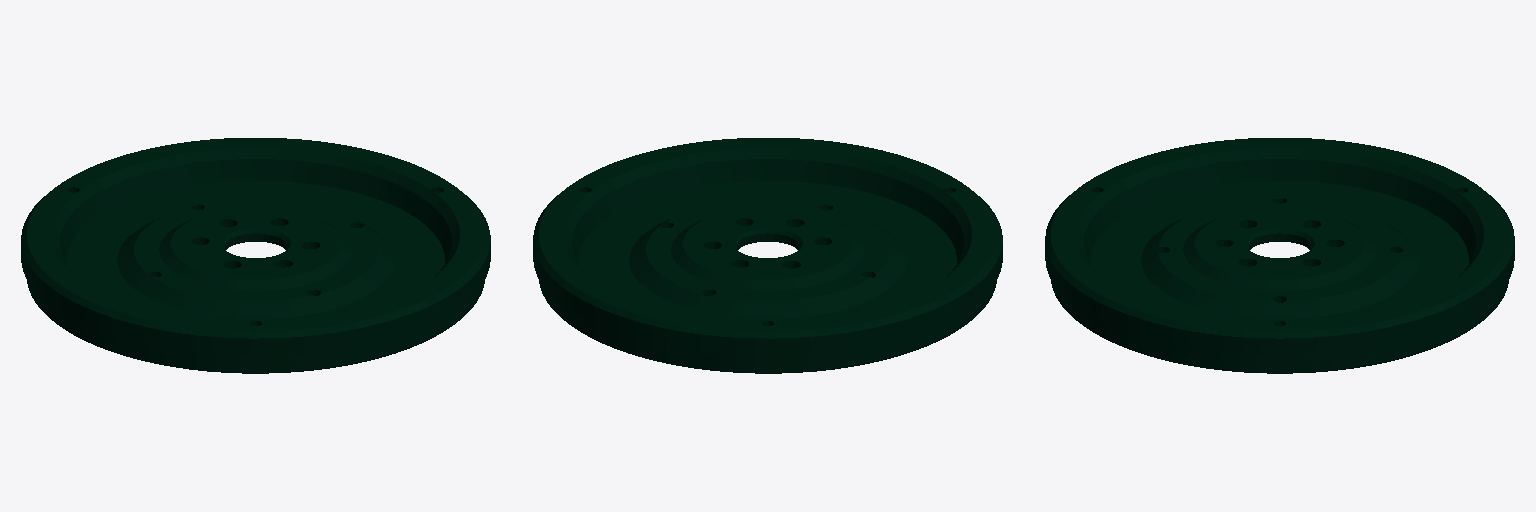
Rendered from Маховик.obj.
The picture shows the model from 3 angles: view 1: azimuth 30°, elevation 25°; view 2: azimuth 150°, elevation 25°; view 3: azimuth 270°, elevation 25°; orthographic projection.
Visible parts, largest first — view 1: Маховик; view 2: Маховик; view 3: Маховик.
Boxes of the visible parts, x1=… form: Маховик: x1=21, y1=138, x2=490, y2=373; Маховик: x1=533, y1=138, x2=1002, y2=373; Маховик: x1=1045, y1=138, x2=1514, y2=373.
Bounding box in the file's own units: 262 × 26.5 × 262.